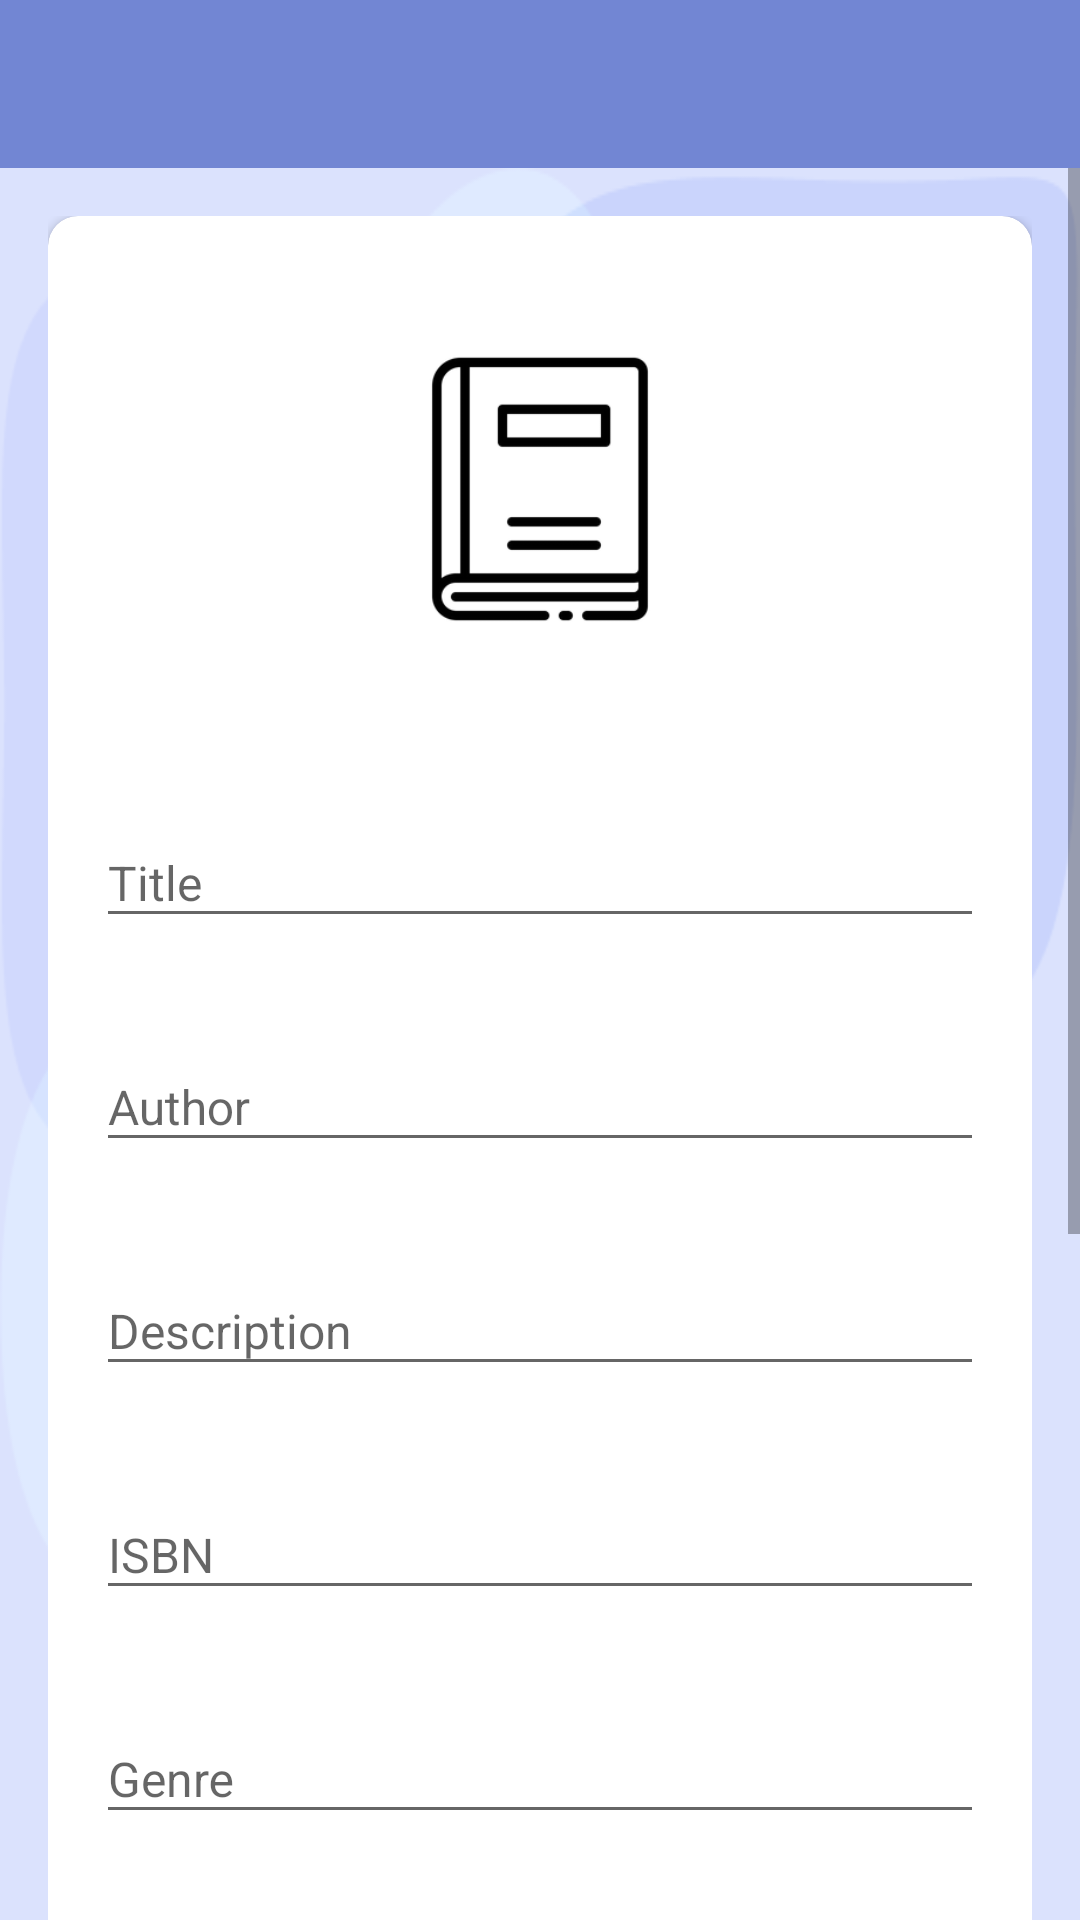

Icon click points for this 1080 × 1920 phone screenshot, format [x,y]:
book: [540,489]
